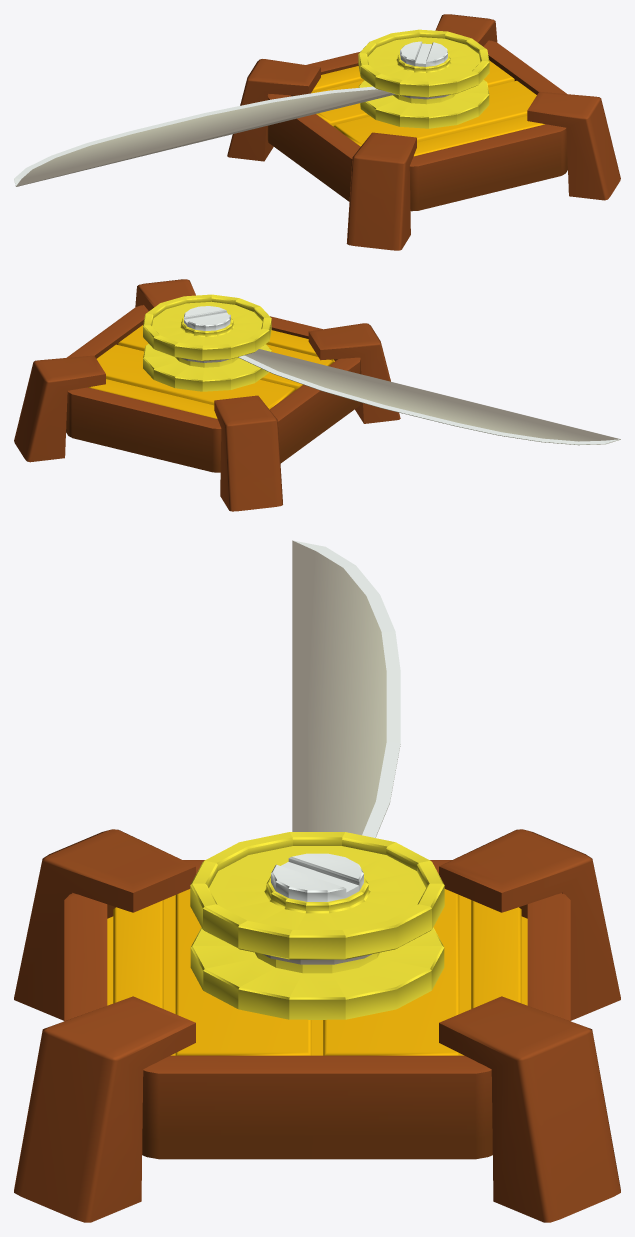
File: islnd2-knife1 (1).fbx
3 views of the same model, one above another, from view 1: azimuth 30°, elevation 25°; view 2: azimuth 150°, elevation 25°; view 3: azimuth 270°, elevation 25° (orthographic). The views are drawn at different scales.
Parts seen in each view (by area): view 1: knife-model1, knife-model1.01; view 2: knife-model1, knife-model1.01; view 3: knife-model1, knife-model1.01.
Boxes of the visible parts, box(x1,y1,x2,y2) form: knife-model1: box(227, 14, 620, 250); knife-model1.01: box(14, 86, 449, 186); knife-model1: box(14, 279, 400, 511); knife-model1.01: box(182, 349, 620, 445); knife-model1: box(14, 829, 620, 1222); knife-model1.01: box(262, 540, 400, 964).
Bounding box in the file's own units: 8.07 × 1.63 × 4.01.
1 material, 1 textured.
